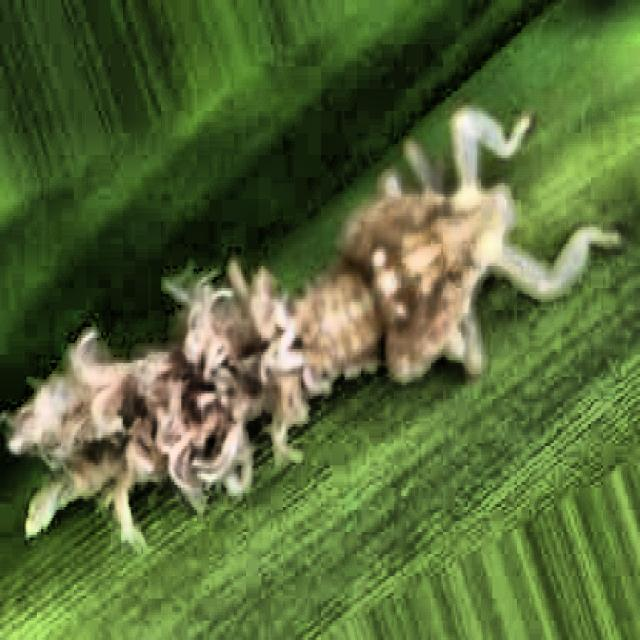Pyrilla-perpusilla: (0, 95, 632, 612)
